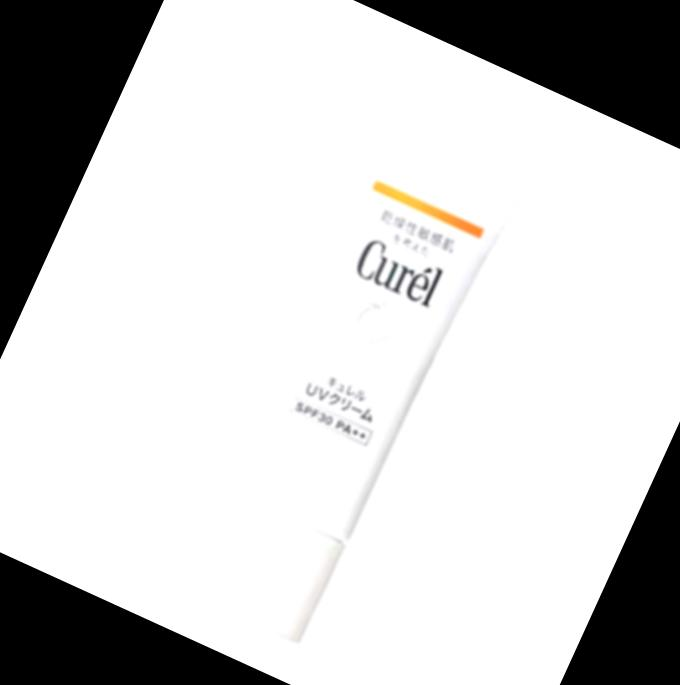cosmetic: (161, 88, 544, 651)
